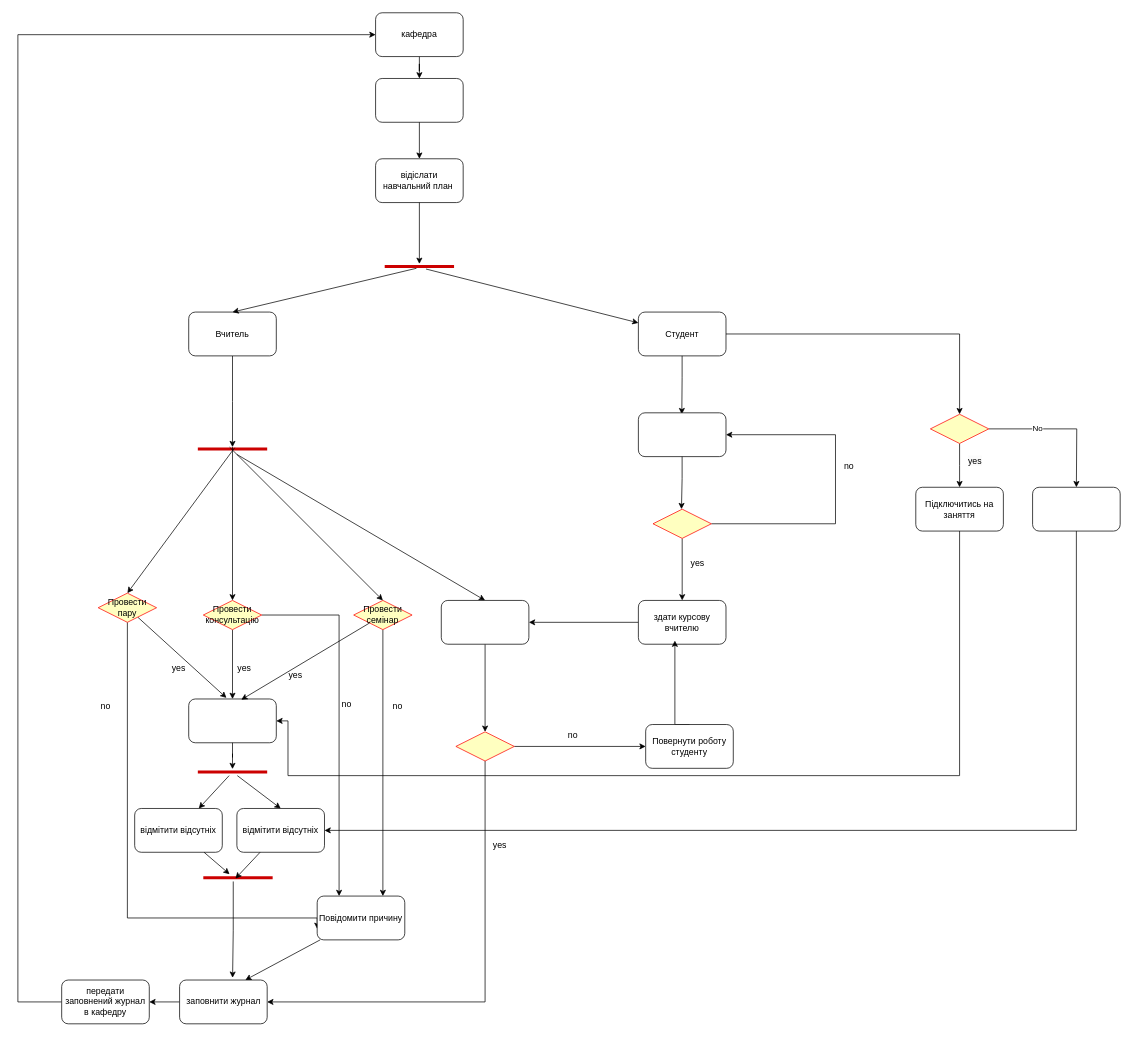
The diagram is 1133 pixels wide and 1037 high, and some of its shapes have lost their labels. Each missing label, with the centre of its shape:
"запустити конференцію в zoom" belongs at (232,720).
"Обрати курсову" belongs at (682,434).
"обрати тему курсової" belongs at (681,523).
"отримати навчальний план від деканату" belongs at (419,100).
"Перевірити курсову" belongs at (485,622).
"повідомити причину відсутності" belongs at (1076,509).
"прийти на пару" belongs at (959,428).
"Схвалено?" belongs at (484,746).
